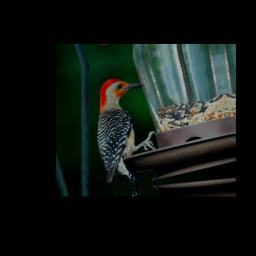Woodpecker: (86, 73, 163, 191)
